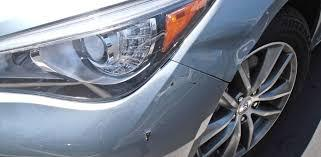front-bumper-dent: (0, 59, 222, 156)
